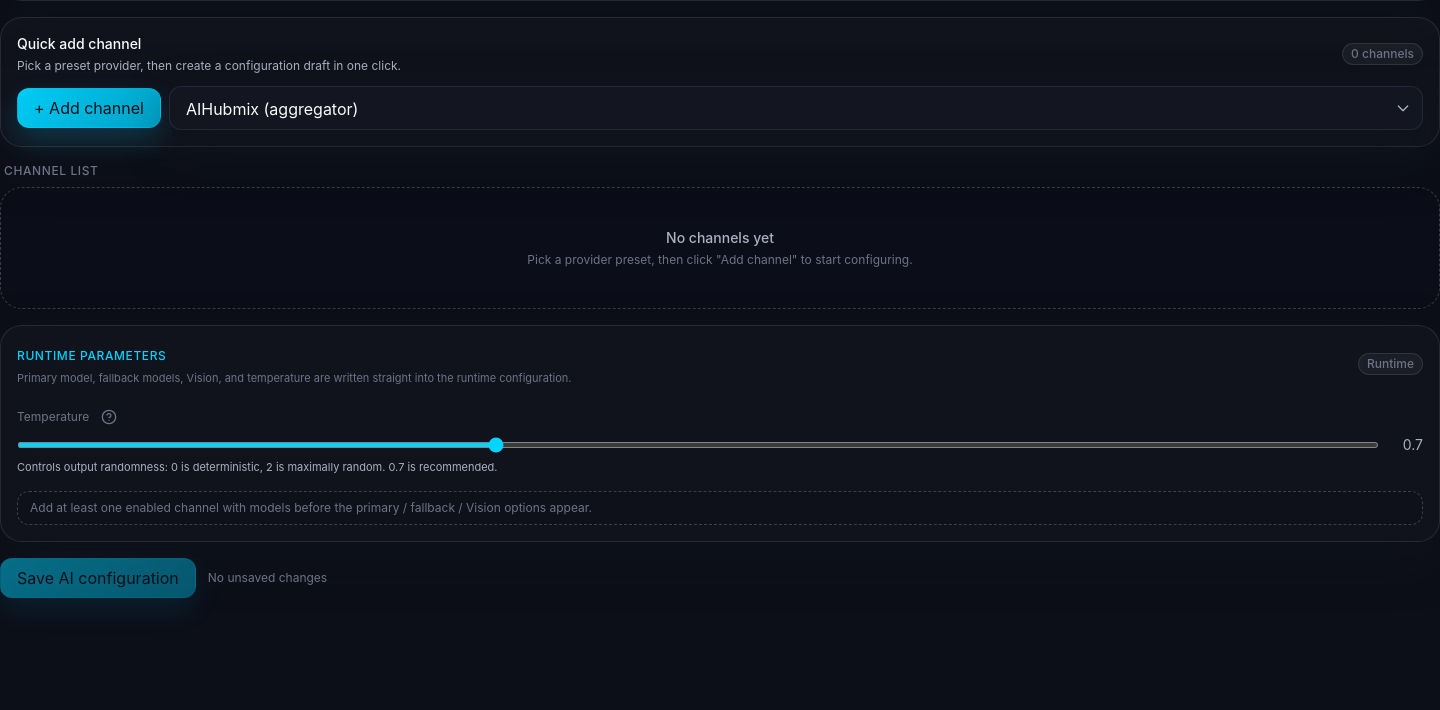
Test case: LLMChannelEditor › uses volcengine OpenAI-compatible defaults when adding the official preset
Select "Volcano Ark (Doubao)" in the dropdown at x=796, y=108, box [169,86,1423,130]
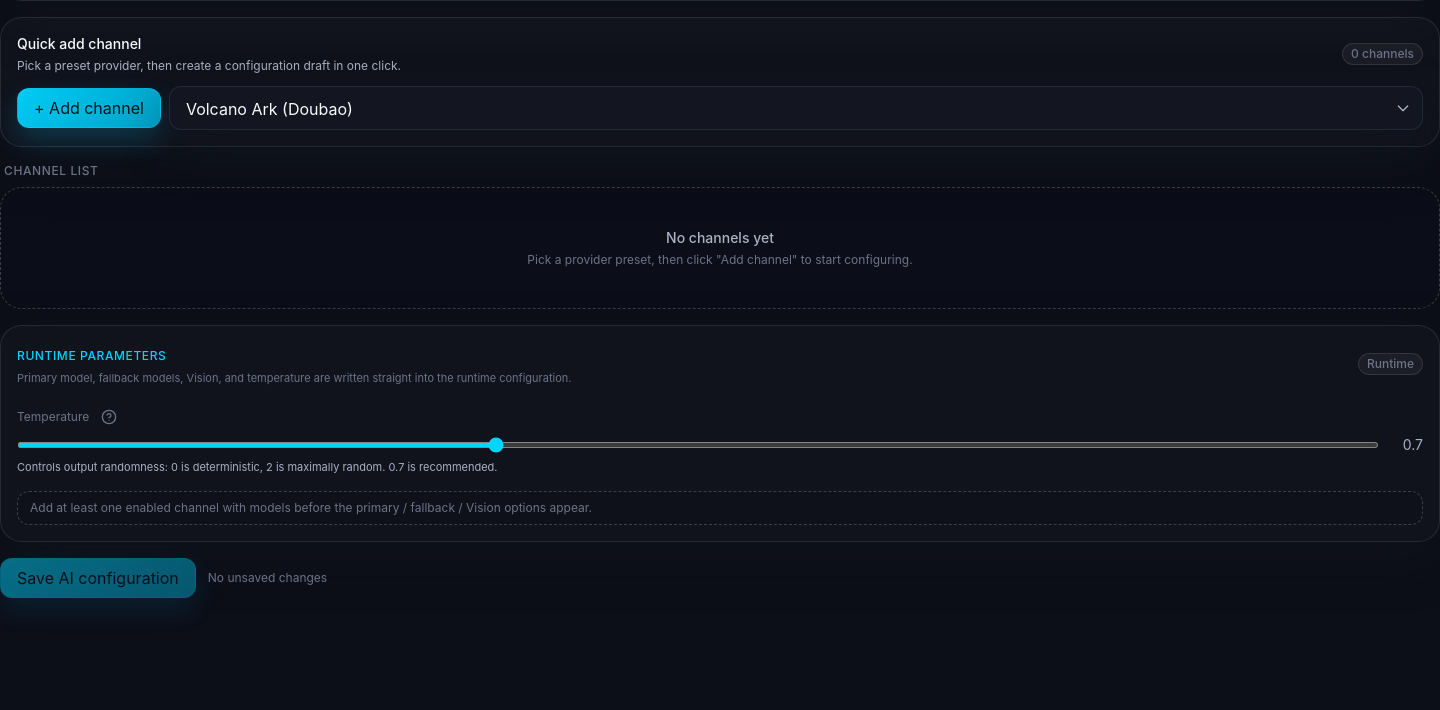
Click the button "+ Add channel" at x=89, y=108, box [17,88,161,128]
(page scrolled)
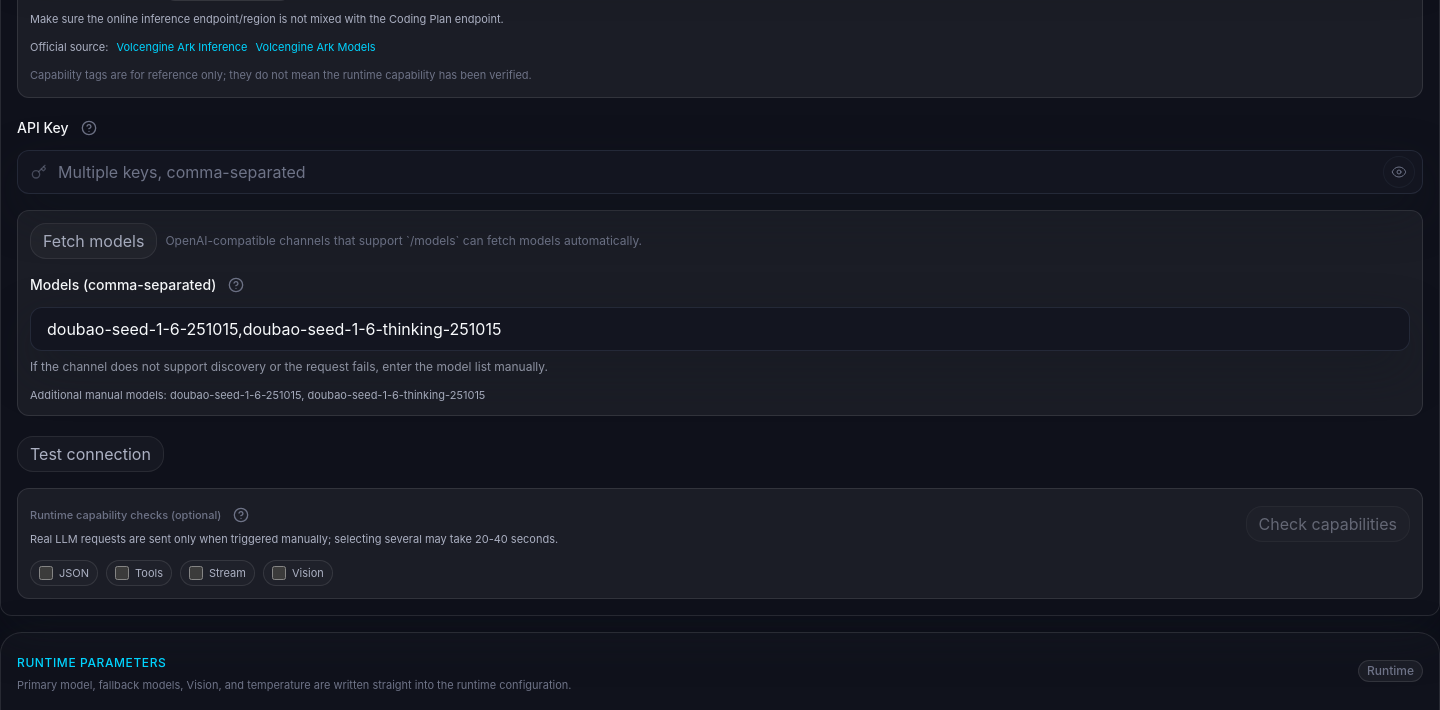
Now the field labelled "Models (comma-separated)" holds "doubao-seed-1-6-251015,doubao-seed-1-6-thinking-251015", box [30,306,1410,350]
